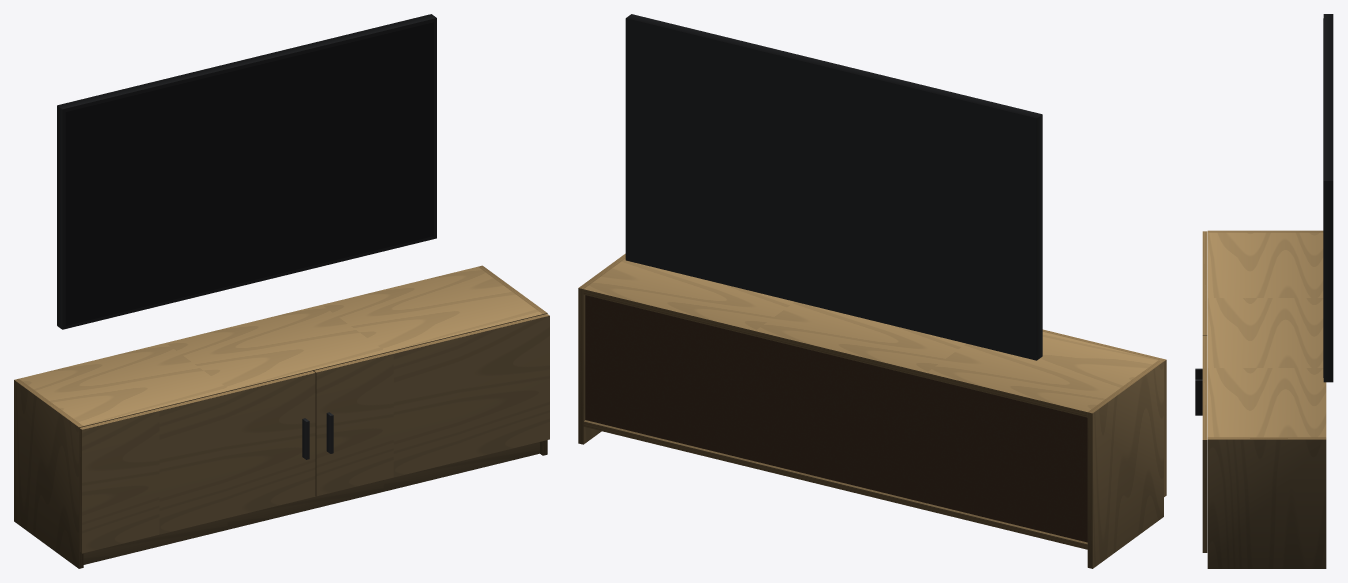
The model's file is media.console.glb.
3 views of the same model, side by side, from view 1: azimuth 30°, elevation 25°; view 2: azimuth 150°, elevation 25°; view 3: azimuth 270°, elevation 25° (orthographic). The views are drawn at different scales.
Visible parts, largest first — view 1: asset:composed-furniture:media.console:sheet:eyJtIjoicGx5Iiw (×4), interior:media.tv; view 2: interior:media.tv, asset:composed-furniture:media.console:sheet:eyJtIjoibWRmIiw, asset:composed-furniture:media.console:sheet:eyJtIjoicGx5Iiw (×7); view 3: asset:composed-furniture:media.console:sheet:eyJtIjoicGx5Iiw (×6), interior:media.tv, asset:composed-furniture:media.console.
Boxes of the visible parts, x1=… form: asset:composed-furniture:media.console:sheet:eyJtIjoicGx5Iiw (×4): x1=14, y1=266, x2=549, y2=568; interior:media.tv: x1=57, y1=14, x2=436, y2=329; interior:media.tv: x1=625, y1=14, x2=1042, y2=360; asset:composed-furniture:media.console:sheet:eyJtIjoibWRmIiw: x1=585, y1=295, x2=1087, y2=542; asset:composed-furniture:media.console:sheet:eyJtIjoicGx5Iiw (×7): x1=578, y1=258, x2=1163, y2=568; asset:composed-furniture:media.console:sheet:eyJtIjoicGx5Iiw (×6): x1=1202, y1=230, x2=1326, y2=568; interior:media.tv: x1=1323, y1=14, x2=1333, y2=382; asset:composed-furniture:media.console: x1=1195, y1=368, x2=1202, y2=415.
Bounding box in the file's own units: 1.8 × 1.47 × 0.5039.
Materials: 26 (24 with a texture image).
